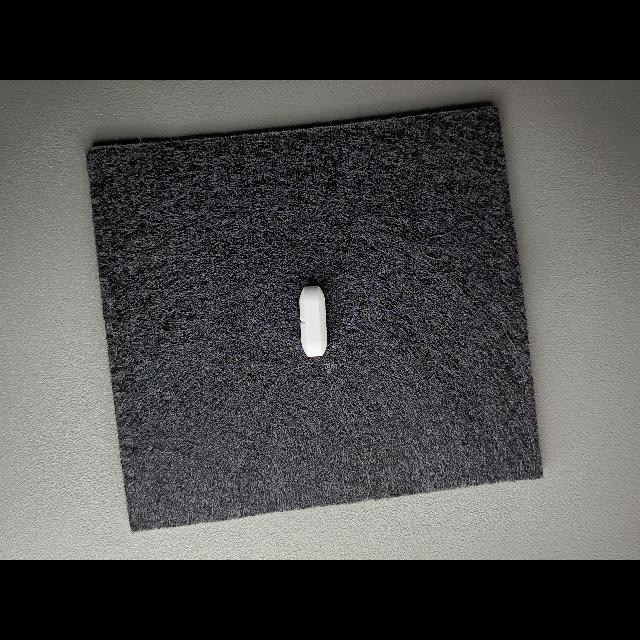Intact Pill: (299, 286, 327, 356)
